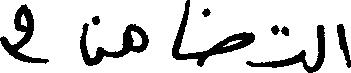X: (0, 0, 44, 67), (256, 20, 304, 72), (212, 27, 254, 71), (81, 11, 100, 70), (172, 0, 187, 64), (125, 19, 146, 59), (335, 19, 350, 72), (312, 20, 323, 72)
